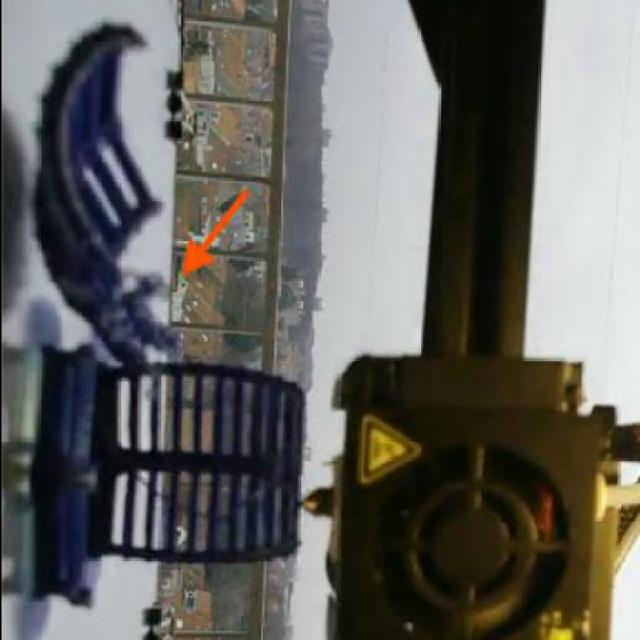Spaghetti: (94, 271, 186, 375)
